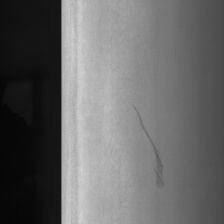water_spot: (130, 97, 169, 200)
